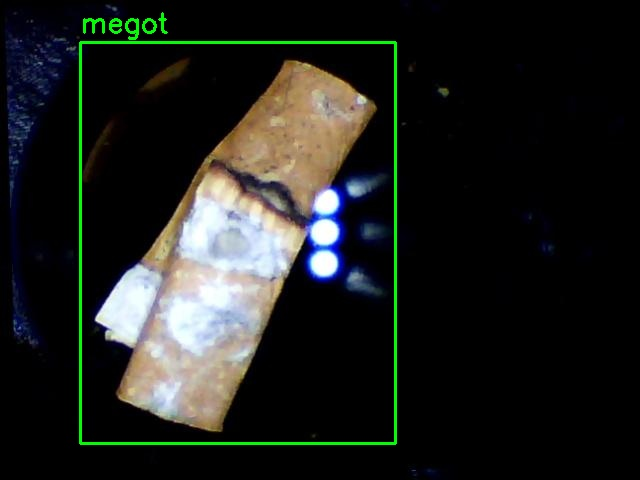megot: (80, 42, 395, 443)
